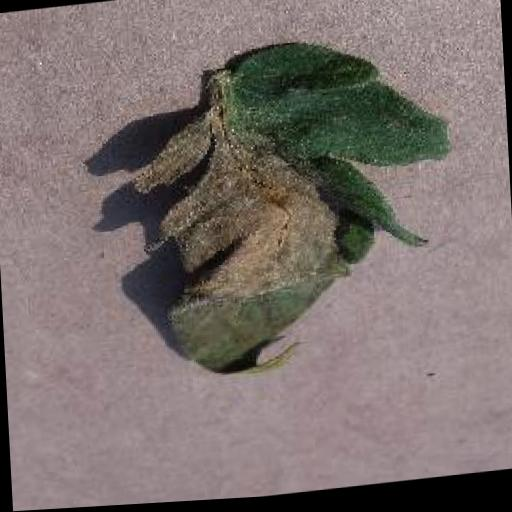Late Blight: (124, 29, 464, 391)
